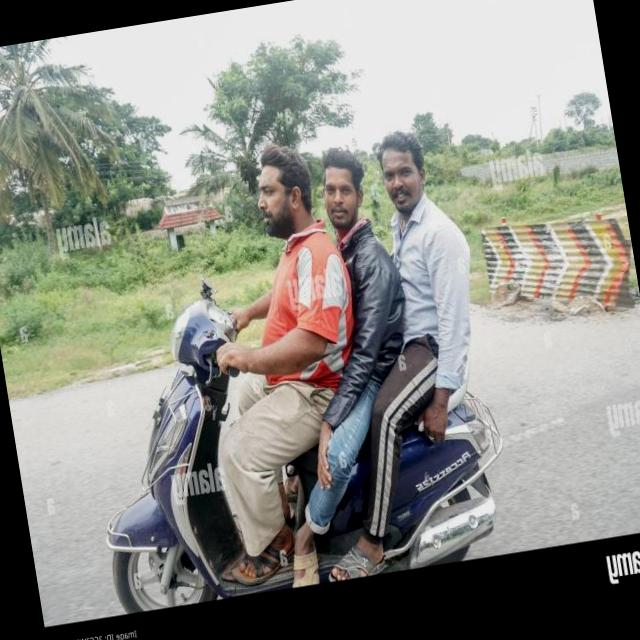motorcycle: (58, 243, 514, 616)
person: (200, 132, 368, 462), (285, 132, 420, 432), (358, 118, 492, 389)
rider_region: (48, 111, 525, 620)
